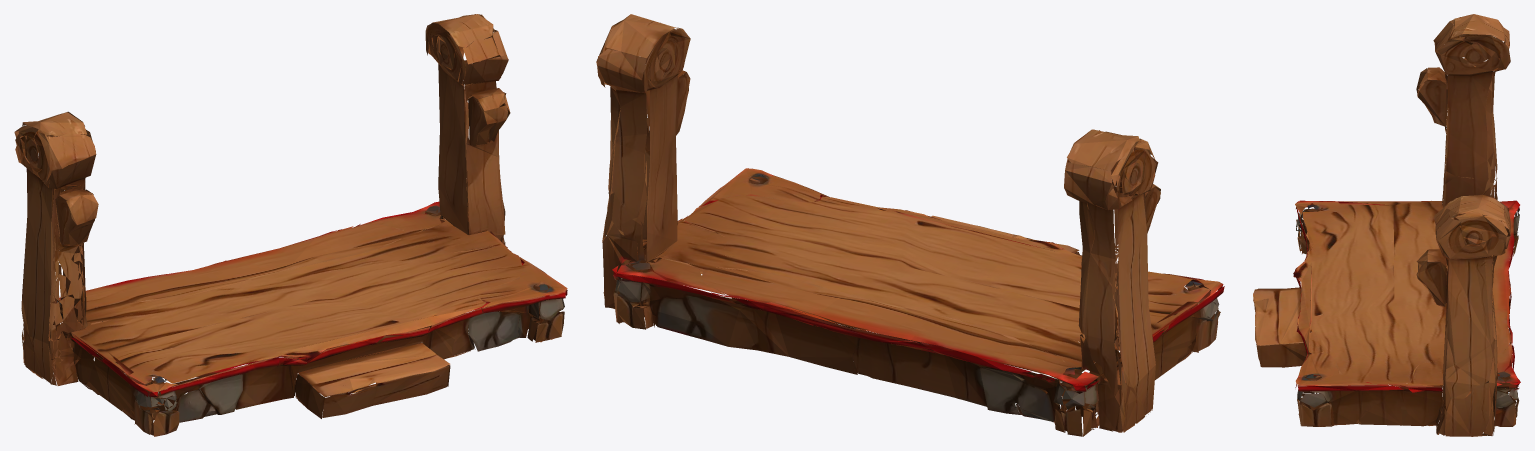
The model's file is dais.glb.
3 views of the same model, side by side, from view 1: azimuth 30°, elevation 25°; view 2: azimuth 150°, elevation 25°; view 3: azimuth 270°, elevation 25° (orthographic). The views are drawn at different scales.
Visible parts, largest first — view 1: material; view 2: material; view 3: material.
Boxes of the visible parts, x1,y1,x2,y2 form: material: (14, 14, 567, 436); material: (596, 14, 1224, 436); material: (1253, 14, 1520, 436).
Size of the model in its own units: 1.77 by 0.9199 by 0.9876.
1 material, 1 textured.
